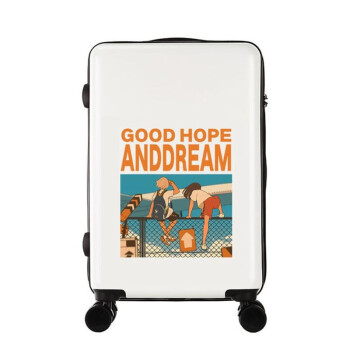box: (88, 43, 262, 299)
wheel: (85, 301, 117, 332), (237, 300, 267, 333)
